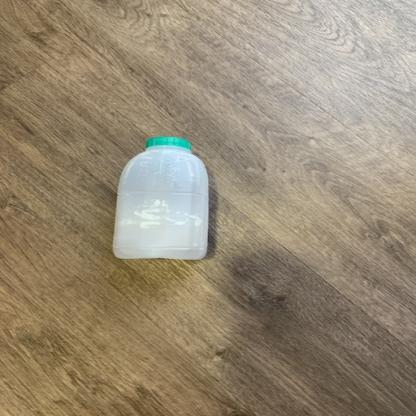trash: (111, 137, 212, 264)
